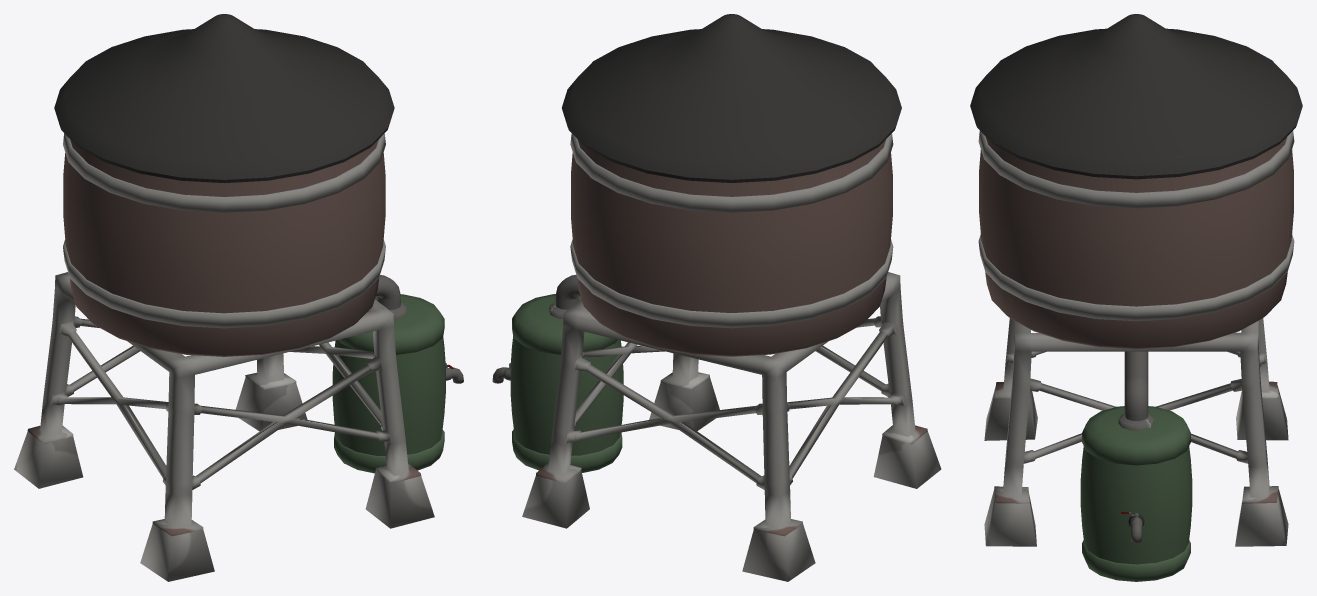
File: SM_WaterTank.fbx
3 views of the same model, side by side, from view 1: azimuth 30°, elevation 25°; view 2: azimuth 150°, elevation 25°; view 3: azimuth 270°, elevation 25° (orthographic). The views are drawn at different scales.
Parts seen in each view (by area): view 1: LargeWater, SmallWaterTank, SmallTankPipeCurve; view 2: LargeWater, SmallWaterTank, SmallTankPipeCurve; view 3: LargeWater, SmallWaterTank, SmallTankPipeCurve, StraightPipe.
Part boxes in pixels (box(x1,y1,x2,y2)): LargeWater: box(14, 14, 434, 581); SmallWaterTank: box(332, 294, 463, 473); SmallTankPipeCurve: box(376, 275, 400, 309); LargeWater: box(522, 14, 941, 581); SmallWaterTank: box(492, 294, 623, 472); SmallTankPipeCurve: box(555, 275, 580, 309); LargeWater: box(970, 14, 1302, 546); SmallWaterTank: box(1080, 406, 1192, 581); SmallTankPipeCurve: box(1124, 377, 1148, 420); StraightPipe: box(1124, 351, 1148, 385).
Size of the model in its own units: 493 by 583 by 376.
